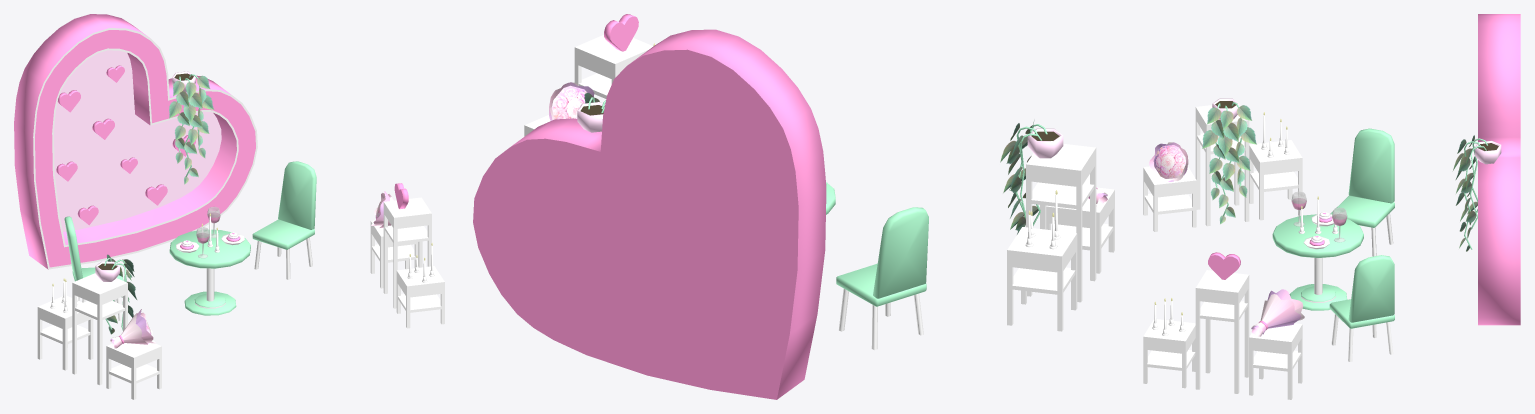
File: Platform1.glb
3 renders of one model, left to right at view 1: azimuth 30°, elevation 25°; view 2: azimuth 150°, elevation 25°; view 3: azimuth 270°, elevation 25°, orthographic. The views are drawn at different scales.
Visible parts, largest first — view 1: Platform1; view 2: Platform1; view 3: Platform1.
Part boxes in pixels (<box>): Platform1: <box>14,14,444,399</box>; Platform1: <box>473,14,1114,399</box>; Platform1: <box>1143,14,1520,399</box>.
Size of what is drawn, in the model's own units: 5.56 by 3.31 by 4.39.
6 materials, 6 textured.
